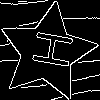H: (22, 27, 74, 70)
